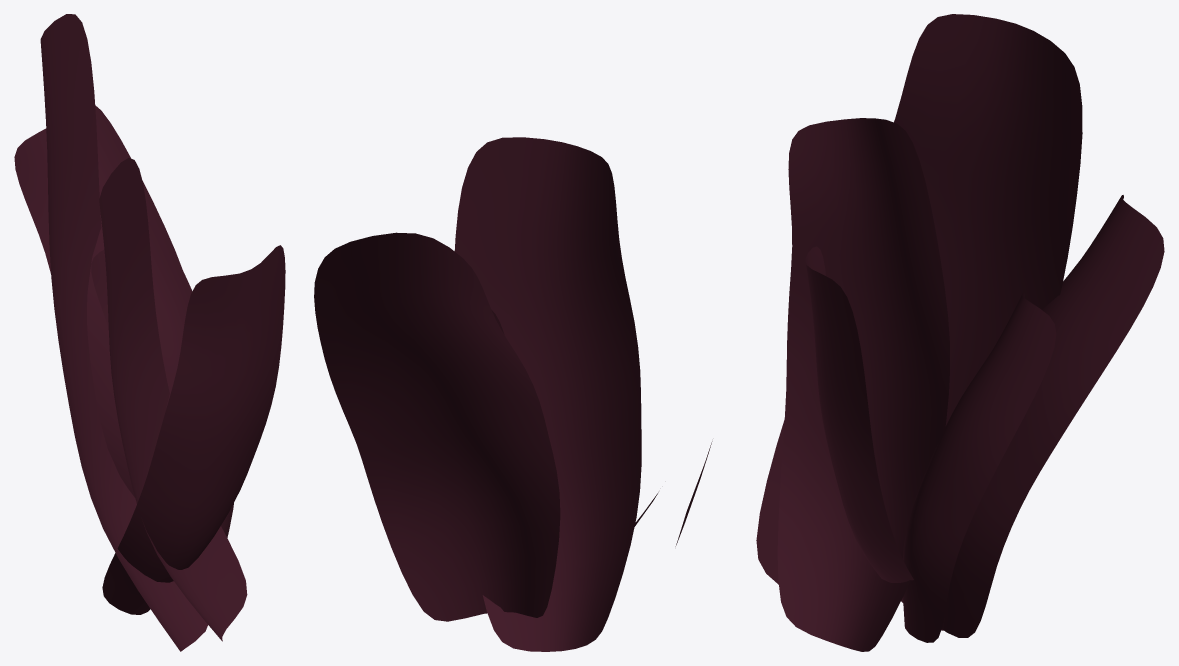
Rendered from SM_Coral_Whip_02.obj.
3 renders of one model, left to right at view 1: azimuth 30°, elevation 25°; view 2: azimuth 150°, elevation 25°; view 3: azimuth 270°, elevation 25°, orthographic. The views are drawn at different scales.
Visible parts, largest first — view 1: SM_Coral_Whip_02_LOD0; view 2: SM_Coral_Whip_02_LOD0; view 3: SM_Coral_Whip_02_LOD0.
Boxes of the visible parts, <box> form: SM_Coral_Whip_02_LOD0: <box>14,14,285,651</box>; SM_Coral_Whip_02_LOD0: <box>314,137,712,651</box>; SM_Coral_Whip_02_LOD0: <box>756,14,1164,651</box>.
Size of what is drawn, in the model's own units: 30.47 by 79.02 by 50.54.
